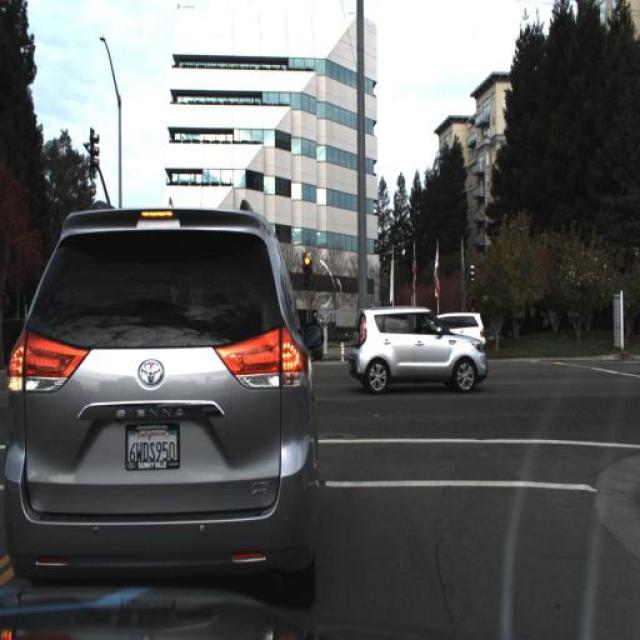car: (3, 192, 333, 607), (349, 306, 485, 396), (431, 294, 491, 358)
trafficLight-RedLeft: (300, 245, 314, 290)
